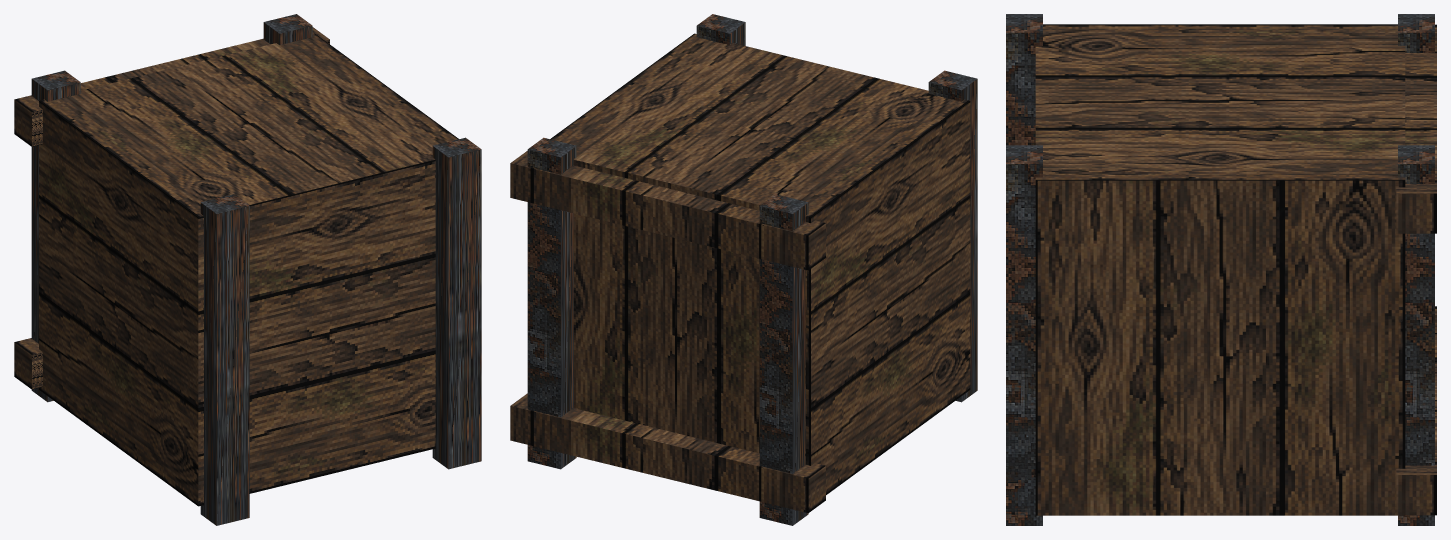
Rendered from C03_Caixa.obj.
The picture shows the model from 3 angles, left to right: view 1: azimuth 30°, elevation 25°; view 2: azimuth 150°, elevation 25°; view 3: azimuth 270°, elevation 25°; orthographic projection. The views are drawn at different scales.
Visible parts, largest first — view 1: C03_Caixa; view 2: C03_Caixa; view 3: C03_Caixa.
Part boxes in pixels (x1,y1,x2,y2): C03_Caixa: [14, 14, 481, 525]; C03_Caixa: [510, 14, 977, 525]; C03_Caixa: [1006, 14, 1436, 525].
Size of the model in its own units: 1.08 by 1.08 by 1.16.
Materials: 2 (2 with a texture image).
